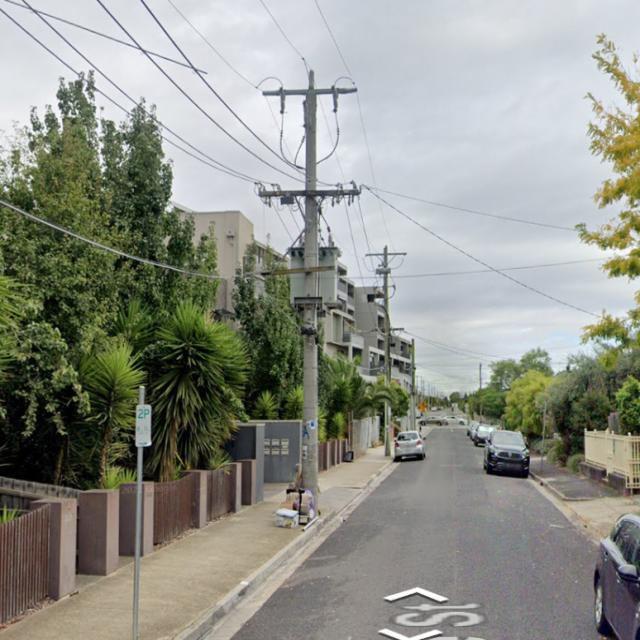HV-transmission: (261, 69, 358, 127), (365, 245, 408, 274)
concrete-pole: (303, 88, 317, 517)
crossarm: (260, 180, 361, 220), (262, 88, 357, 96), (261, 266, 335, 276), (367, 252, 408, 258), (371, 328, 403, 332)
timber-pole: (382, 246, 392, 455), (480, 362, 483, 424)
transformer: (283, 240, 340, 309)
